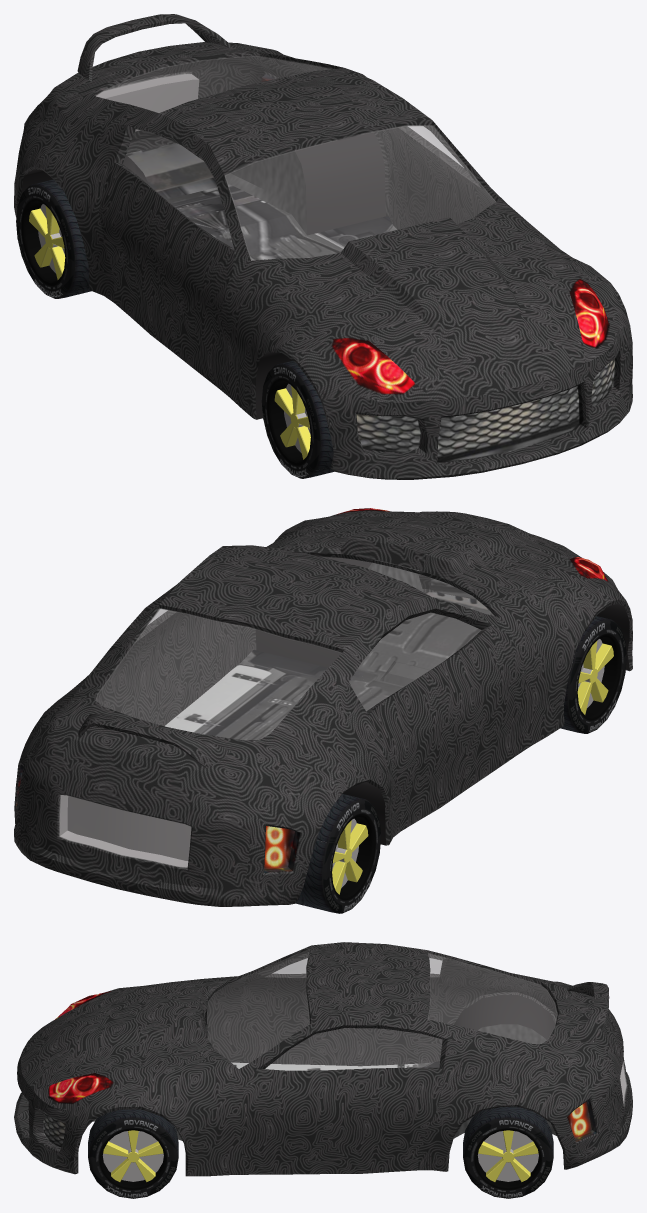
File: race_car_5773656a.glb
3 views of the same model, one above another, from view 1: azimuth 30°, elevation 25°; view 2: azimuth 150°, elevation 25°; view 3: azimuth 270°, elevation 25° (orthographic). The views are drawn at different scales.
Visible parts, largest first — view 1: polySurface11; view 2: polySurface11; view 3: polySurface11.
Boxes of the visible parts, bbox=[...] form: polySurface11: bbox=[14, 14, 632, 479]; polySurface11: bbox=[14, 508, 632, 913]; polySurface11: bbox=[14, 942, 632, 1198].
Bounding box in the file's own units: 179 × 119 × 396.
1 material, 1 textured.
